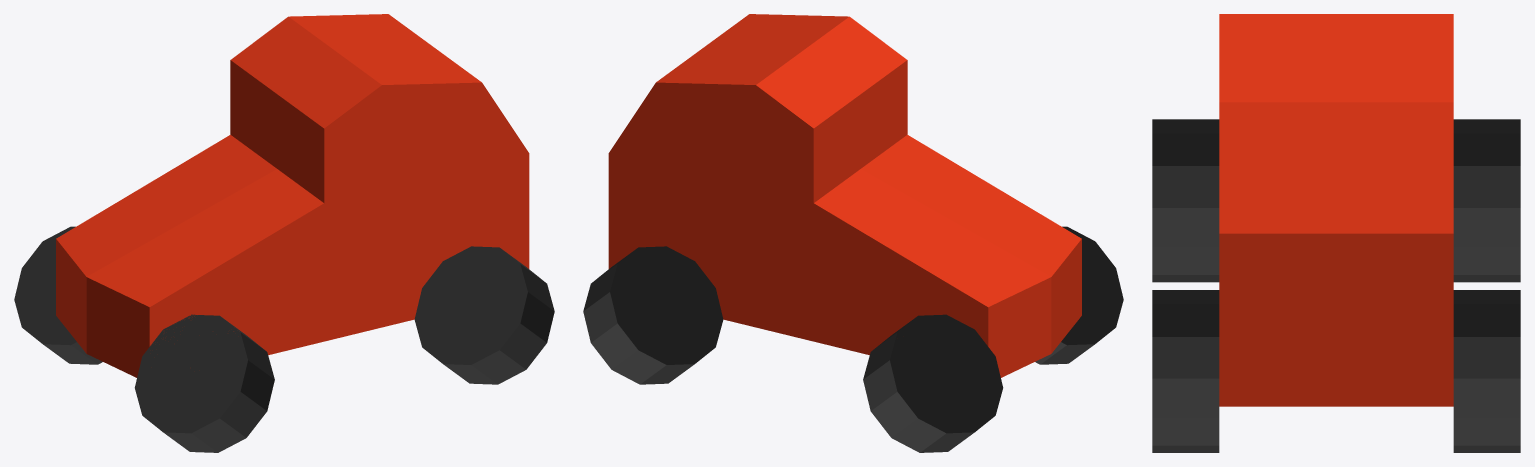
File: moving_obstalcle_1.fbx
The picture shows the model from 3 angles, left to right: view 1: azimuth 30°, elevation 25°; view 2: azimuth 150°, elevation 25°; view 3: azimuth 270°, elevation 25°; orthographic projection. The views are drawn at different scales.
Visible parts, largest first — view 1: Cube.009; view 2: Cube.009; view 3: Cube.009.
Part boxes in pixels (<box>): Cube.009: <box>14,14,554,452</box>; Cube.009: <box>583,14,1123,452</box>; Cube.009: <box>1152,14,1520,452</box>.
Size of the model in its own units: 200 by 146 by 129.
